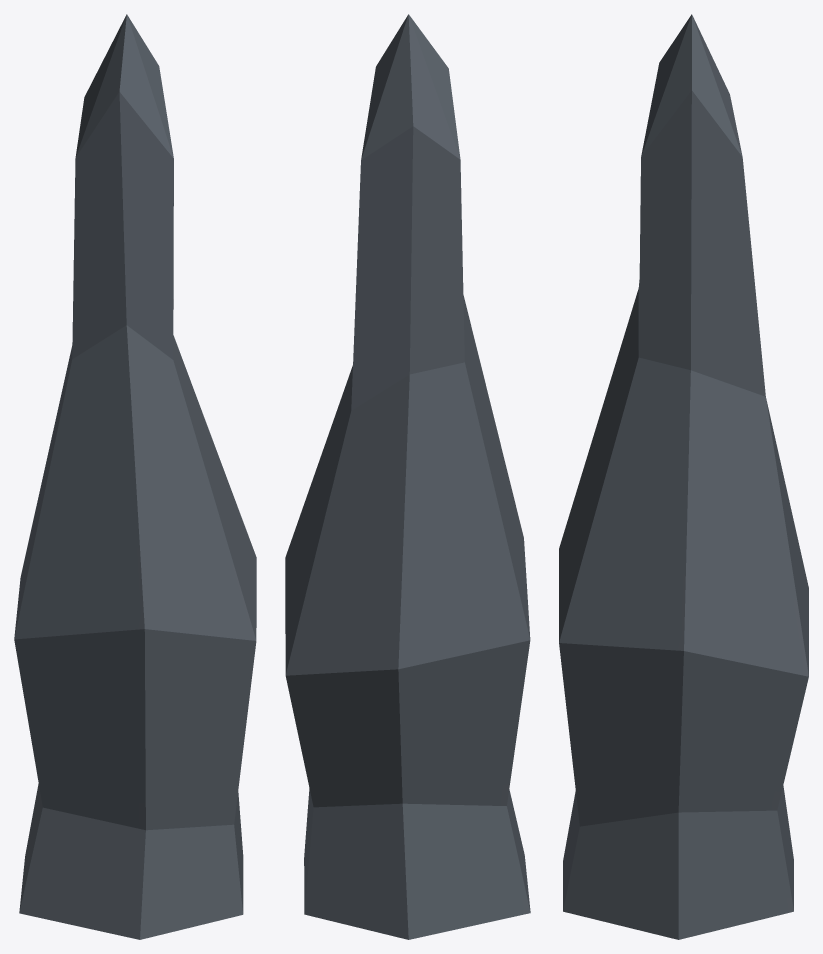
The model's file is Stalagmite-C07.fbx.
The picture shows the model from 3 angles, left to right: view 1: azimuth 30°, elevation 25°; view 2: azimuth 150°, elevation 25°; view 3: azimuth 270°, elevation 25°; orthographic projection.
Visible parts, largest first — view 1: Stalagmite-C07; view 2: Stalagmite-C07; view 3: Stalagmite-C07.
Part boxes in pixels (bbox=[...]): Stalagmite-C07: bbox=[14, 14, 256, 939]; Stalagmite-C07: bbox=[285, 14, 530, 939]; Stalagmite-C07: bbox=[559, 14, 808, 939].
Size of the model in its own units: 66.76 by 228 by 59.23.
